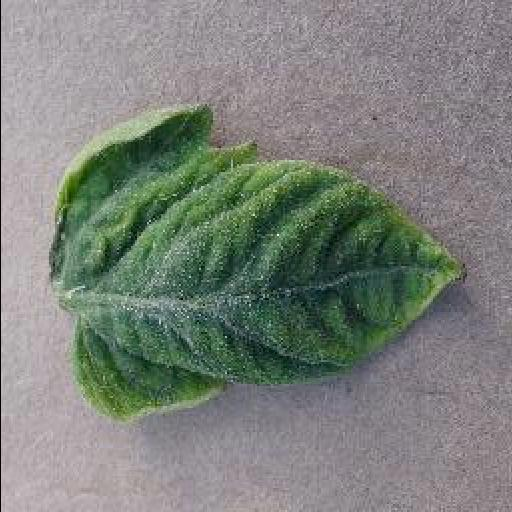disease_tomato: (46, 106, 464, 422)
